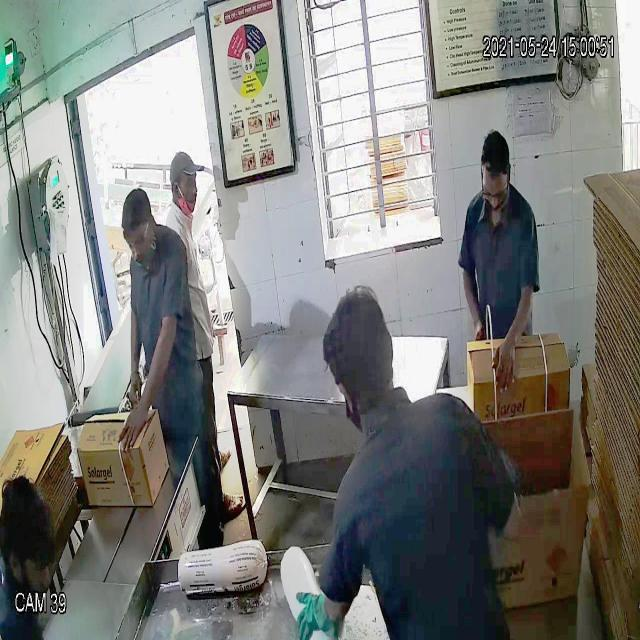glasses: (120, 224, 152, 254)
